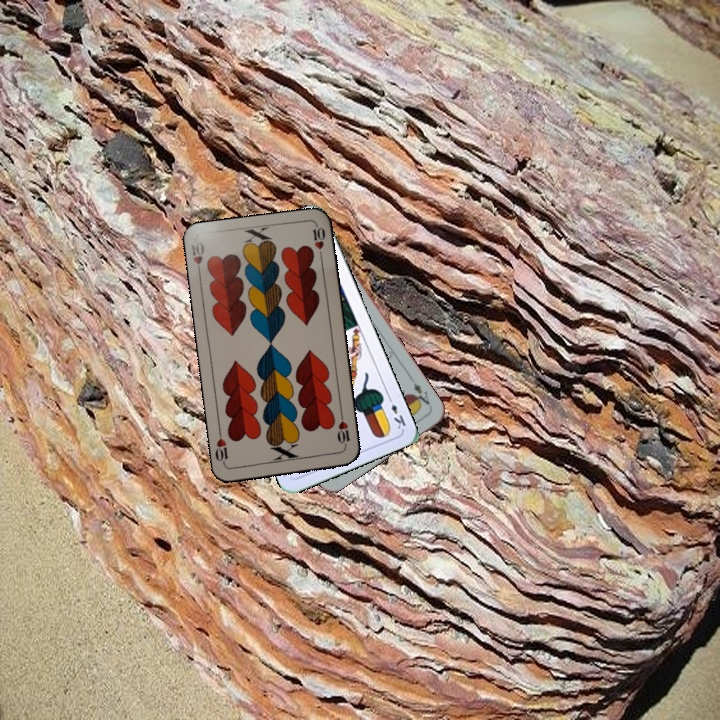EA: (409, 379, 435, 410)
EK: (384, 392, 408, 432)
H10: (188, 238, 207, 279), (333, 410, 352, 450)
